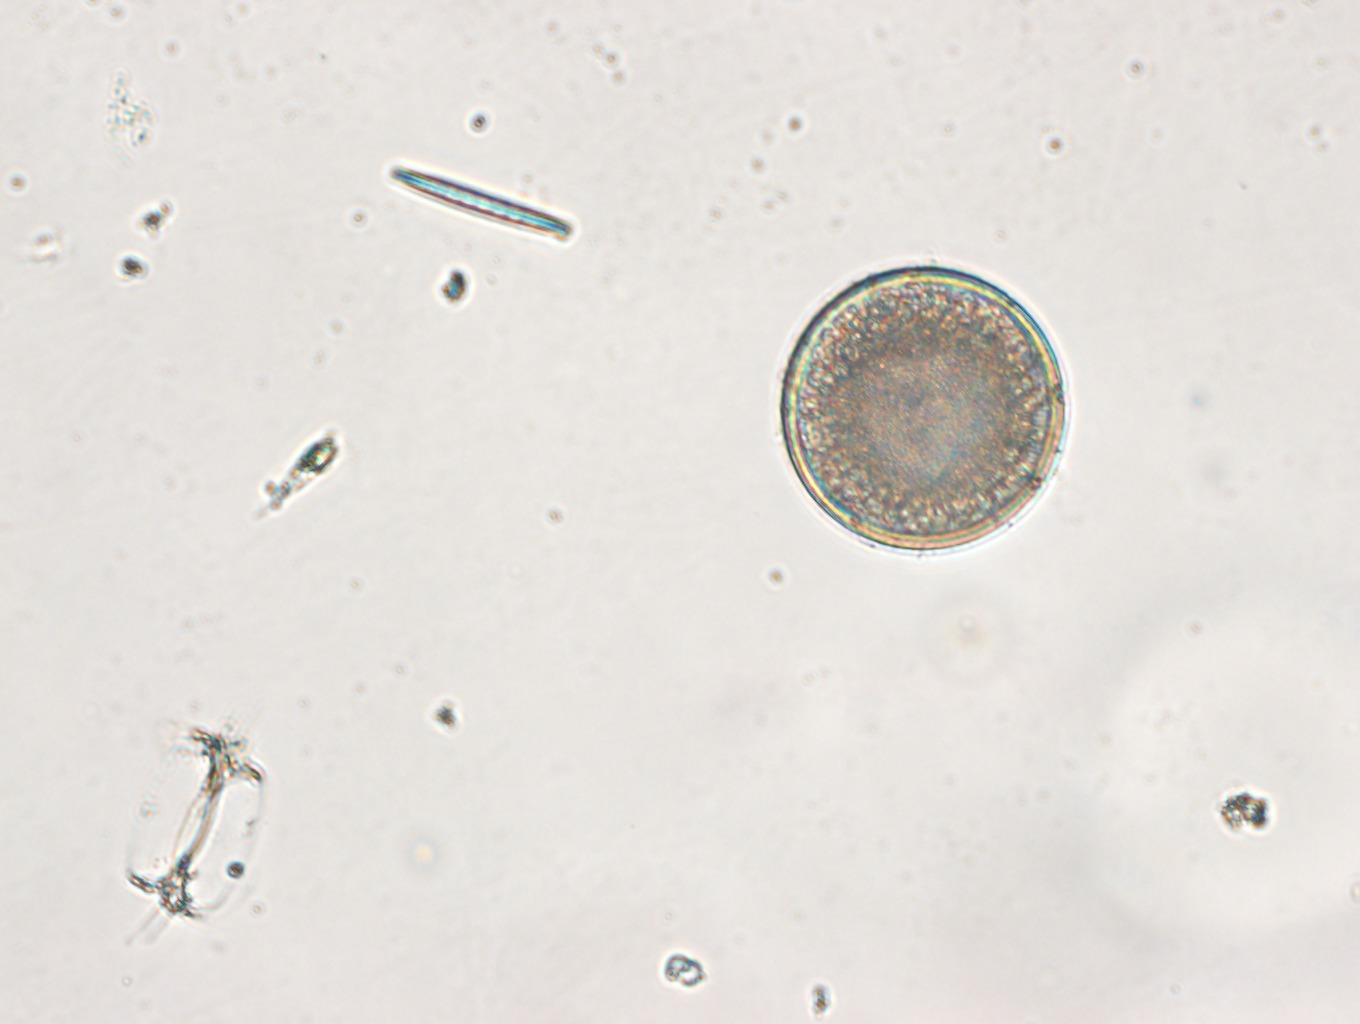chaetoceros: (126, 713, 268, 955)
coscinodiscus: (768, 258, 1074, 556)
thalassionema nitzschioides: (383, 158, 579, 247)
